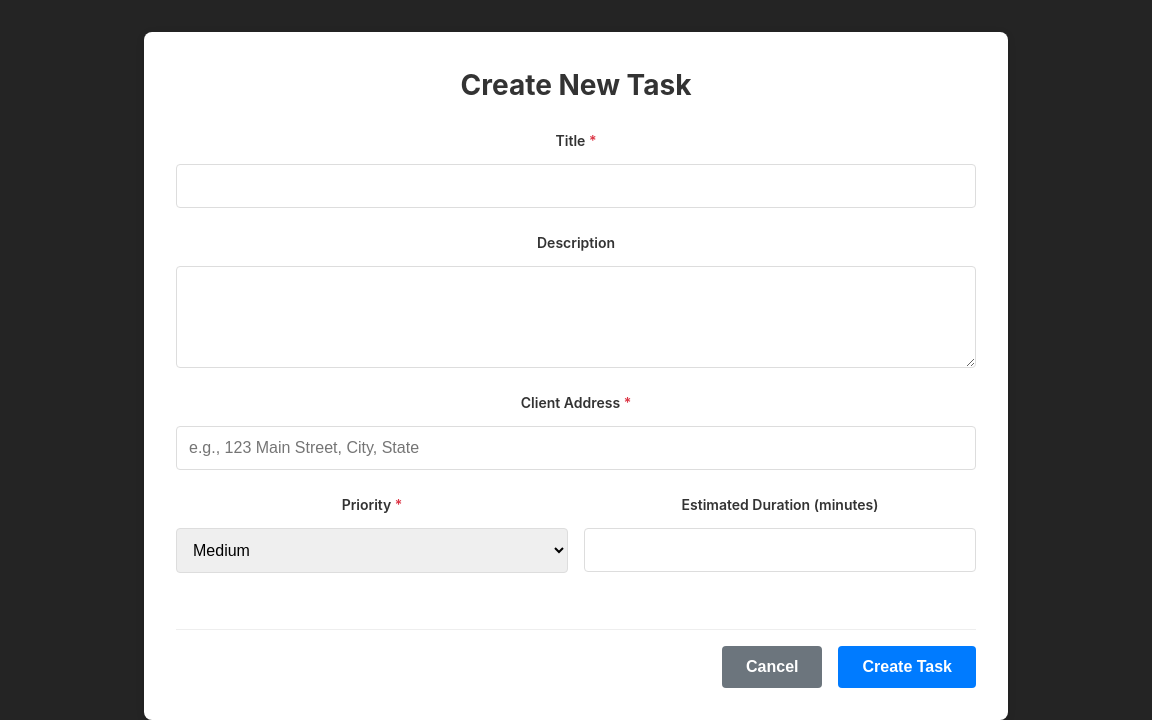
TaskForm Component › should show validation error when title is empty
This screenshot has width=1152, height=720.
What coordinates should you click on to do the following:
click the button "Create Task"
I would click on:
 (907, 667)
Its box is [838,646,976,688].
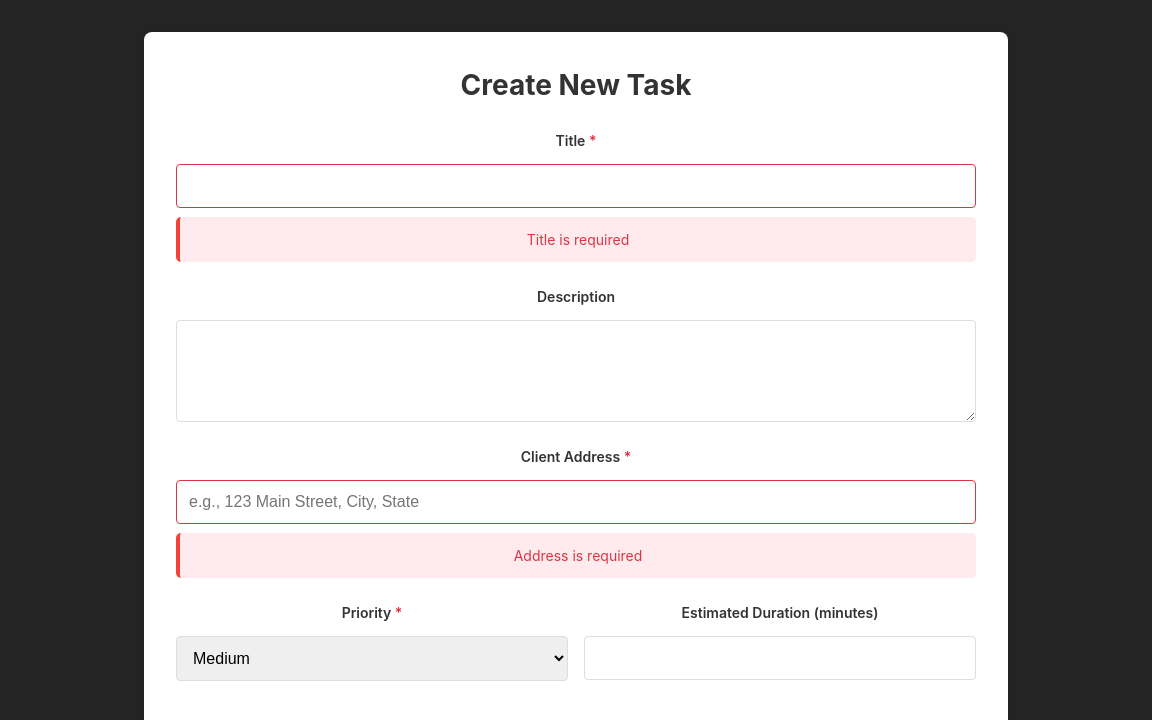
Expected: the text "Title is required" is shown, [176,217,976,262]
